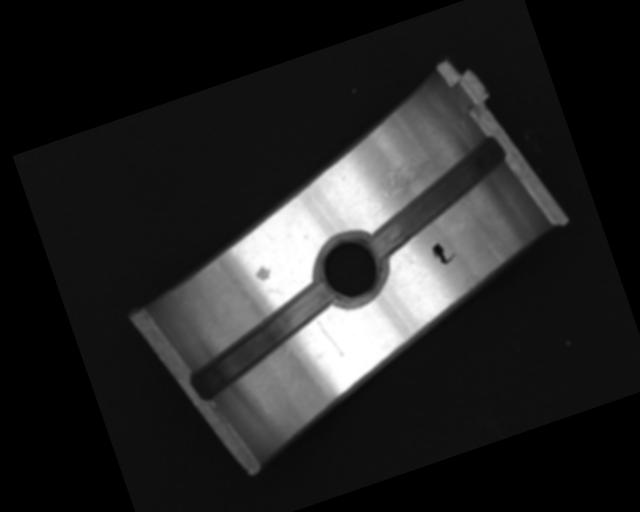blot: (429, 237, 459, 268)
bruise: (252, 261, 274, 284)
gap: (349, 134, 523, 259)
hole: (174, 277, 352, 402), (309, 228, 397, 314)
nick: (314, 313, 344, 361)
scratch: (360, 149, 458, 220)
